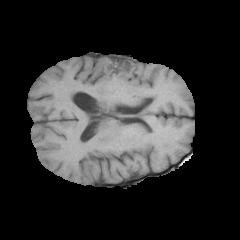glioma: (64, 60, 158, 118)
